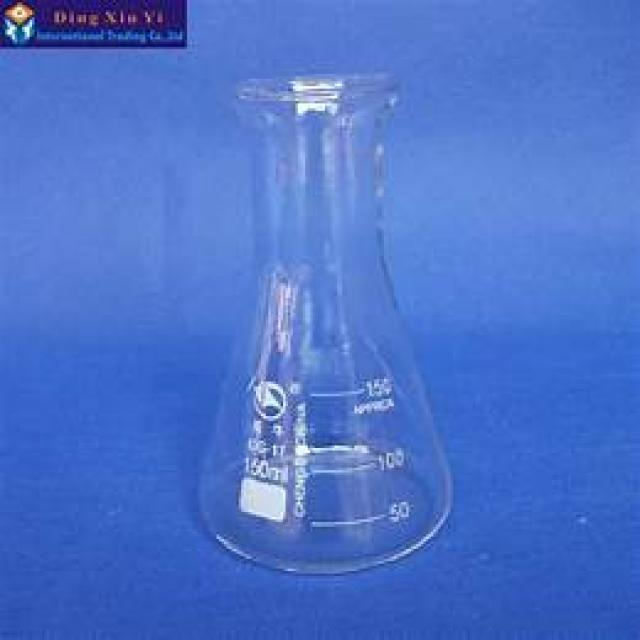Titrarion: (188, 65, 459, 579)
